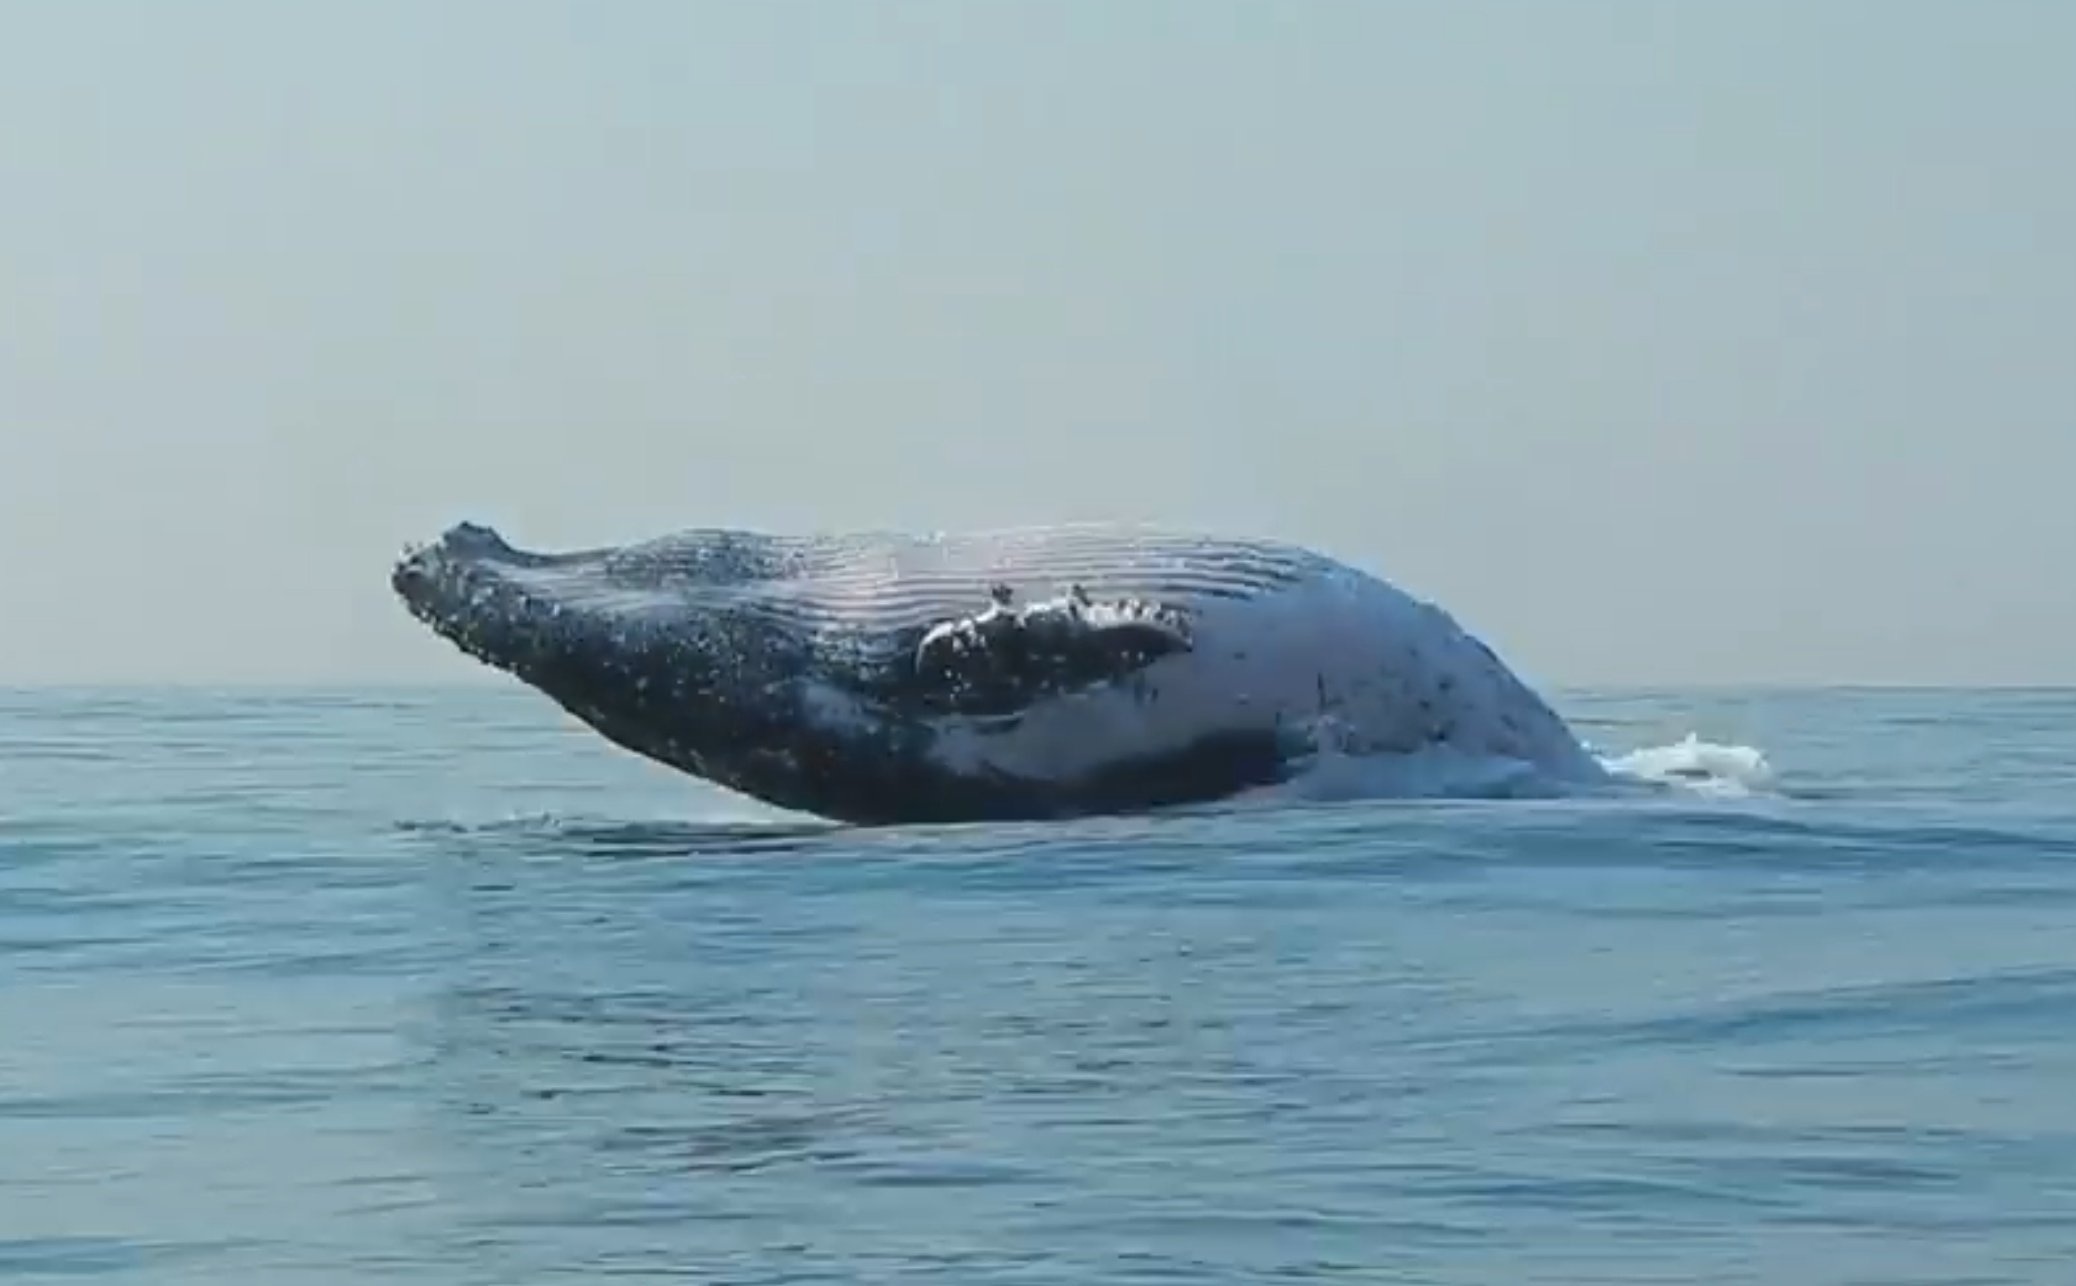humpback: (387, 515, 1615, 822)
